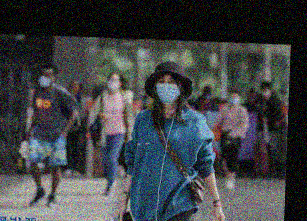with_mask: (153, 75, 181, 104), (35, 70, 51, 89), (105, 77, 121, 93), (225, 93, 239, 106), (260, 86, 270, 99)
